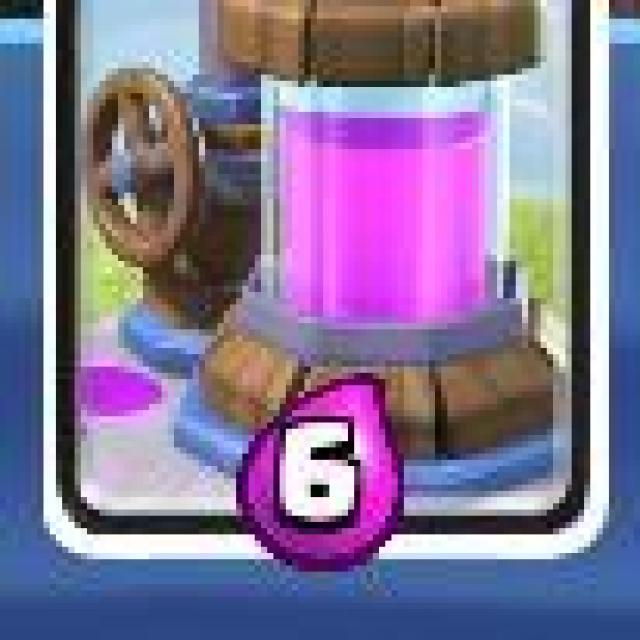Elixir_Pump: (39, 0, 607, 562)
